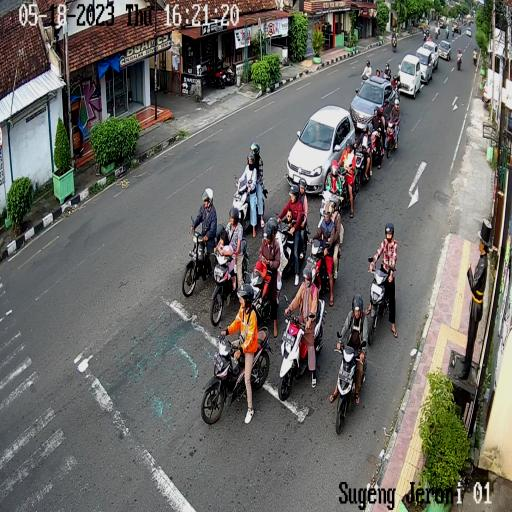mobil: (286, 103, 356, 194), (348, 76, 396, 134), (396, 54, 420, 98), (414, 48, 434, 81), (423, 40, 439, 68), (438, 39, 452, 63)
motor: (198, 316, 274, 432), (279, 302, 325, 400), (334, 335, 368, 436), (180, 224, 226, 298), (209, 244, 248, 322), (368, 255, 397, 342), (302, 234, 342, 296), (249, 266, 284, 330), (273, 212, 308, 276), (230, 178, 268, 235), (355, 141, 373, 195), (337, 167, 356, 216), (384, 118, 400, 158)
